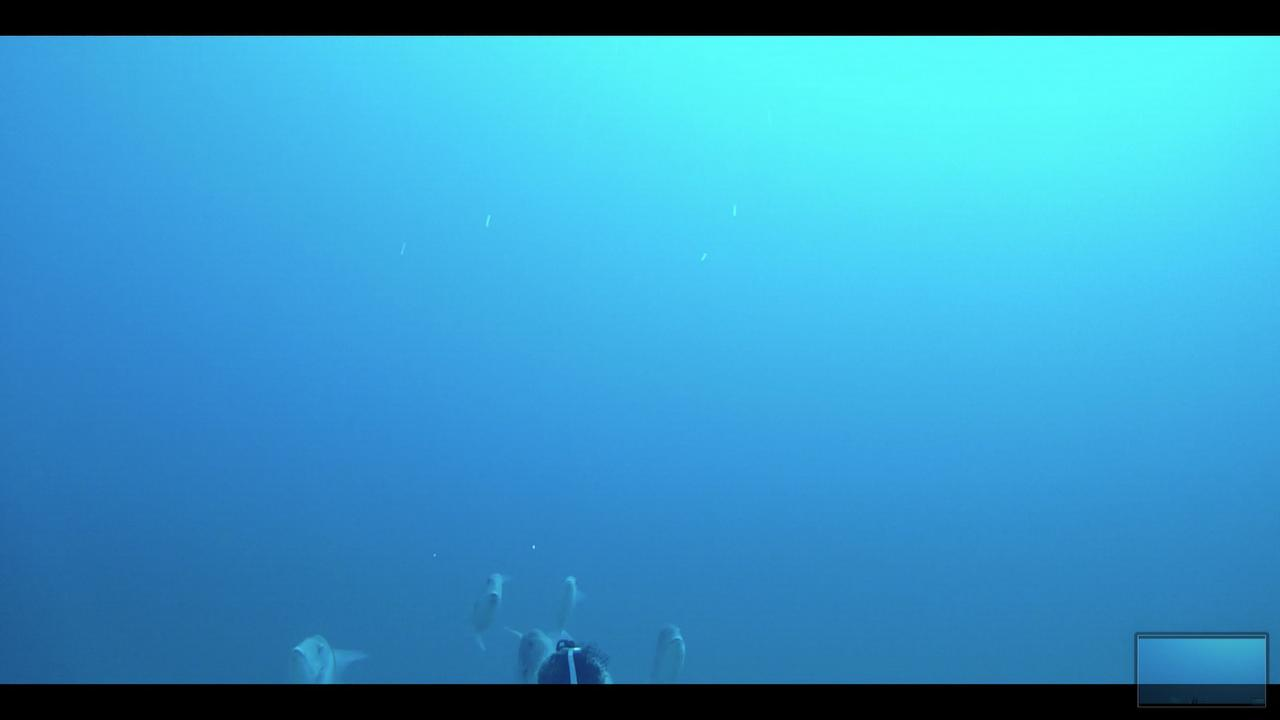balistes: (283, 626, 372, 682), (466, 564, 512, 654), (645, 615, 688, 681)
